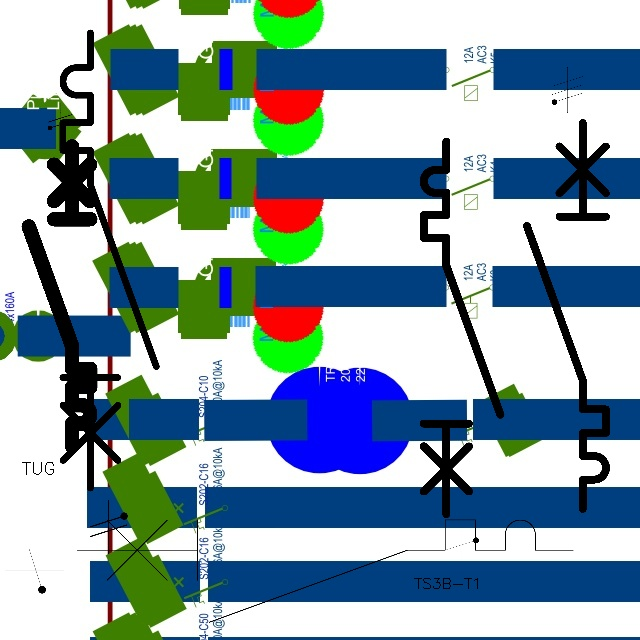interruptor_termomagnetico: (64, 507, 586, 635), (51, 21, 168, 499), (517, 112, 616, 518), (414, 132, 510, 524), (21, 138, 98, 453)
